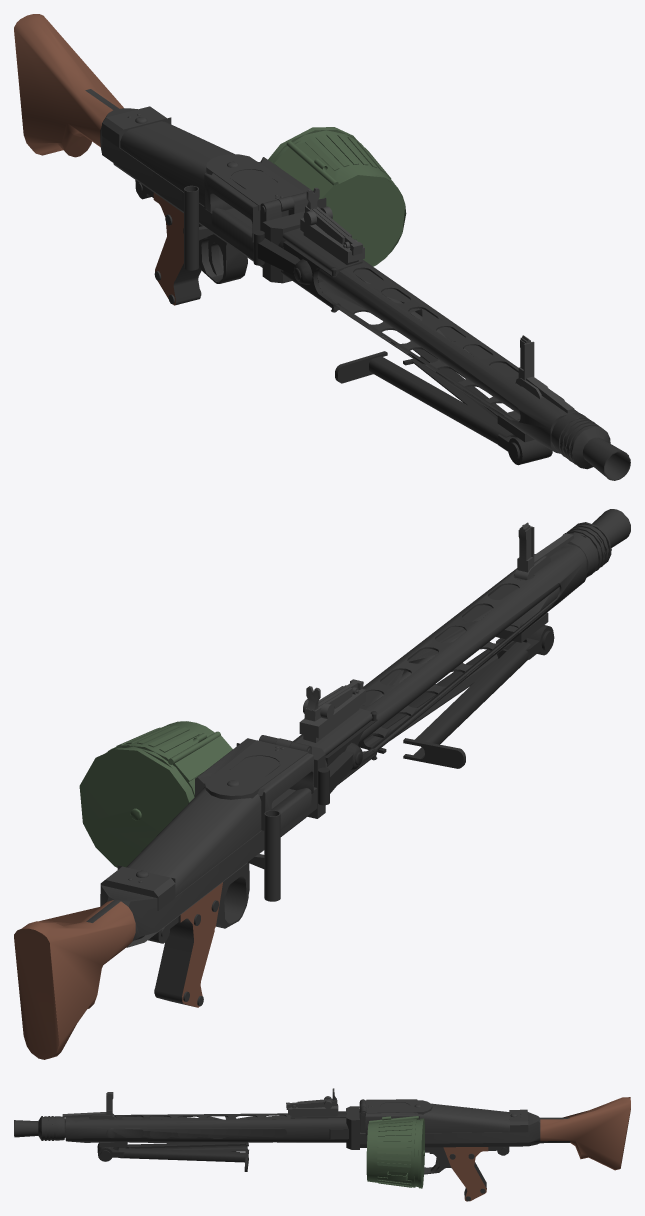
3 renders of one model, top to bottom at view 1: azimuth 30°, elevation 25°; view 2: azimuth 150°, elevation 25°; view 3: azimuth 270°, elevation 25°, orthographic. The views are drawn at different scales.
Visible parts, largest first — view 1: Machinegun, LoadingDoor, DrumMagazine, BipodLeg_right, IronSights, BarrelPort, InternalBarrel, Bolt, BipodLeg_left, Bipod; view 2: Machinegun, LoadingDoor, DrumMagazine, BipodLeg_right, IronSights, InternalBarrel, BarrelPort, BipodLeg_left, Bolt, Bipod; view 3: Machinegun, DrumMagazine, LoadingDoor, BipodLeg_left, IronSights, BipodLeg_right, Bipod.
Part boxes in pixels (bbox=[...]): Machinegun: bbox=[14, 14, 630, 480]; LoadingDoor: bbox=[102, 106, 326, 242]; DrumMagazine: bbox=[268, 127, 406, 266]; BipodLeg_right: bbox=[335, 351, 513, 444]; IronSights: bbox=[300, 187, 574, 413]; BarrelPort: bbox=[253, 230, 337, 312]; InternalBarrel: bbox=[317, 268, 520, 414]; Bolt: bbox=[183, 185, 234, 270]; BipodLeg_left: bbox=[403, 349, 515, 437]; Bipod: bbox=[498, 434, 552, 465]; Machinegun: bbox=[14, 509, 630, 1059]; LoadingDoor: bbox=[100, 738, 313, 910]; DrumMagazine: bbox=[79, 721, 232, 867]; BipodLeg_right: bbox=[403, 642, 530, 768]; IronSights: bbox=[299, 522, 573, 742]; InternalBarrel: bbox=[358, 583, 559, 743]; BarrelPort: bbox=[318, 711, 377, 805]; BipodLeg_left: bbox=[358, 638, 514, 753]; Bolt: bbox=[247, 810, 280, 901]; Bipod: bbox=[496, 625, 554, 659]; Machinegun: bbox=[14, 1097, 630, 1201]; DrumMagazine: bbox=[366, 1116, 424, 1188]; LoadingDoor: bbox=[359, 1099, 528, 1135]; BipodLeg_left: bbox=[118, 1148, 248, 1171]; IronSights: bbox=[62, 1088, 338, 1119]; BipodLeg_right: bbox=[118, 1142, 248, 1151]; Bipod: bbox=[97, 1143, 130, 1161].
Size of the model in its own units: 84.61 by 81.65 by 416.
